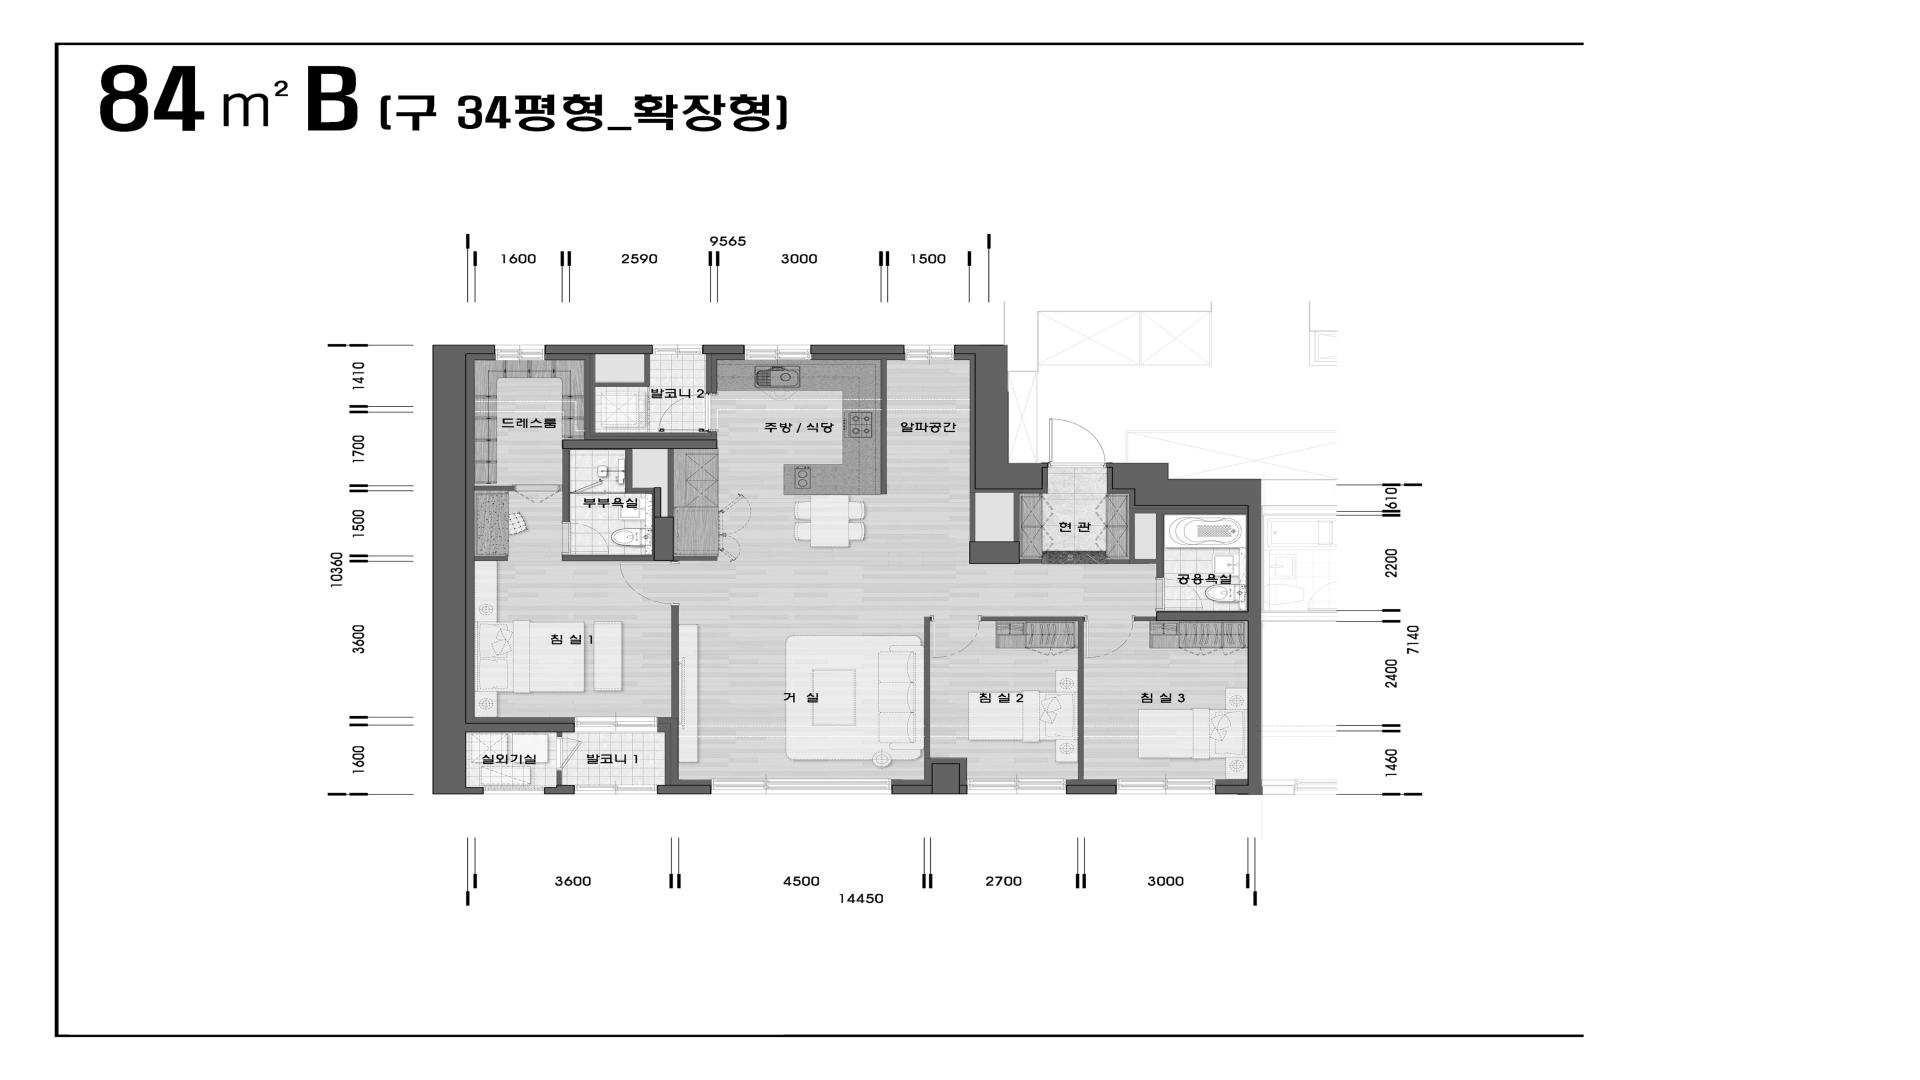background: (0, 0, 1920, 1080)
door: (1048, 418, 1106, 467), (620, 560, 680, 605), (930, 616, 981, 658), (1085, 616, 1134, 658), (1155, 576, 1204, 611), (562, 521, 609, 555), (514, 484, 563, 502), (556, 737, 582, 770)
wall: (433, 353, 467, 787), (1112, 479, 1261, 506), (1247, 506, 1262, 785), (975, 355, 1009, 464), (975, 463, 1048, 489), (562, 439, 717, 448), (969, 541, 1019, 564), (545, 344, 653, 355), (465, 723, 575, 732), (1106, 463, 1170, 479), (811, 344, 905, 355), (924, 616, 931, 758), (881, 359, 887, 495), (671, 605, 679, 717), (654, 517, 674, 560), (1155, 612, 1246, 621), (932, 764, 960, 794), (1079, 621, 1084, 779), (433, 344, 495, 355), (657, 785, 712, 795), (1065, 785, 1117, 795), (955, 345, 1007, 355), (1216, 785, 1262, 795), (591, 433, 711, 436), (1129, 509, 1247, 513), (703, 344, 745, 355), (891, 785, 932, 795), (1156, 513, 1163, 578), (982, 617, 1085, 621), (563, 448, 568, 522), (562, 556, 654, 560), (669, 450, 674, 517), (665, 732, 671, 785), (433, 787, 484, 794), (1013, 493, 1019, 542), (591, 355, 595, 433), (1129, 513, 1135, 559), (545, 785, 575, 794), (969, 492, 975, 542), (626, 448, 633, 488), (705, 353, 712, 392), (595, 382, 650, 386), (473, 485, 514, 491), (654, 487, 661, 517), (475, 556, 508, 562), (674, 556, 717, 560), (645, 355, 650, 382), (658, 723, 671, 732), (1134, 616, 1156, 621), (1129, 559, 1156, 563), (626, 488, 654, 492), (1019, 559, 1042, 563), (556, 771, 562, 785), (960, 785, 967, 794), (1106, 560, 1129, 563), (556, 732, 563, 737)
window: (712, 778, 891, 794), (1117, 779, 1216, 795), (967, 779, 1065, 794), (575, 717, 658, 732), (745, 345, 811, 360), (905, 344, 955, 360), (575, 785, 657, 794), (495, 345, 545, 360), (484, 787, 545, 794), (653, 345, 703, 353)
